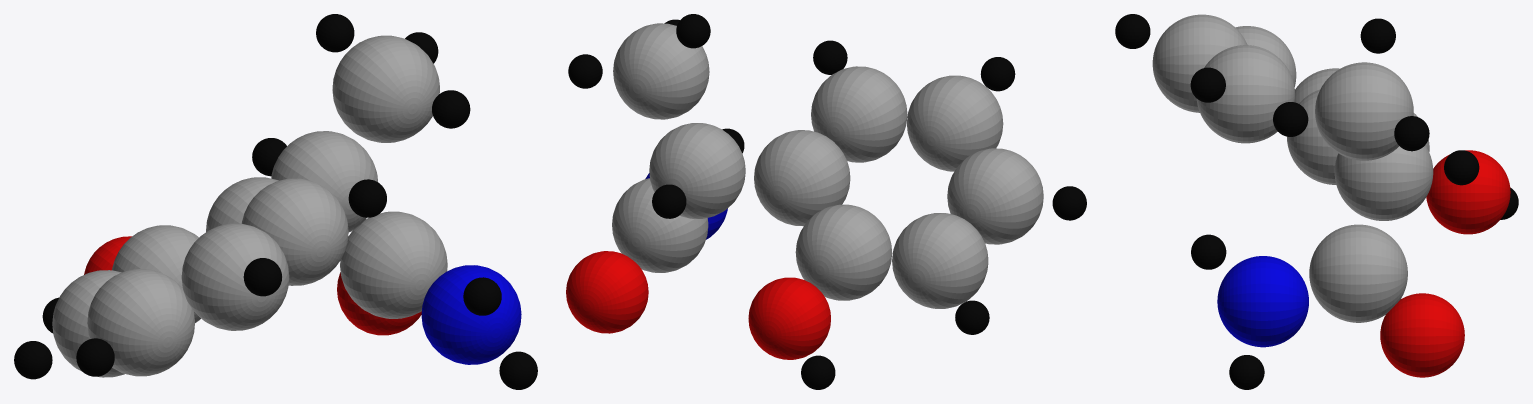
Rendered from Adrenaline.glb.
The picture shows the model from 3 angles, left to right: view 1: azimuth 30°, elevation 25°; view 2: azimuth 150°, elevation 25°; view 3: azimuth 270°, elevation 25°; orthographic projection. The views are drawn at different scales.
Visible parts, largest first — view 1: world; view 2: world; view 3: world.
Boxes of the visible parts, x1=… form: world: x1=14, y1=14, x2=537, y2=389; world: x1=566, y1=14, x2=1086, y2=389; world: x1=1115, y1=14, x2=1518, y2=389.
Size of the model in its own units: 7.13 by 5.02 by 5.72.
